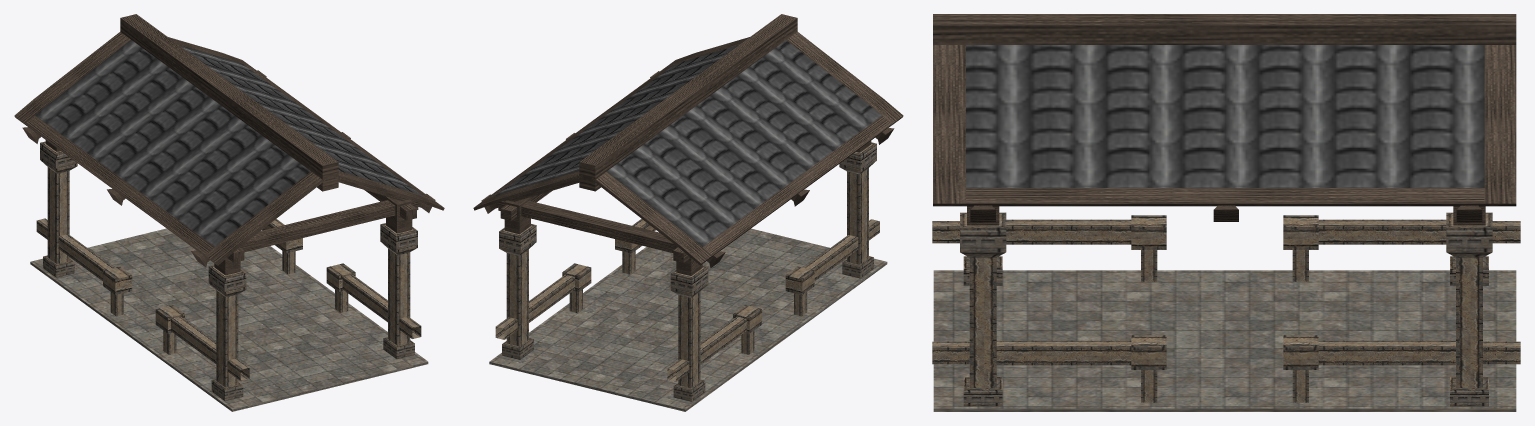
File: corredorjp-ENTc.fbx
3 views of the same model, side by side, from view 1: azimuth 30°, elevation 25°; view 2: azimuth 150°, elevation 25°; view 3: azimuth 270°, elevation 25° (orthographic). The views are drawn at different scales.
Visible parts, largest first — view 1: Cube; view 2: Cube; view 3: Cube.
Boxes of the visible parts, bbox=[...] form: Cube: bbox=[14, 14, 444, 411]; Cube: bbox=[473, 14, 903, 411]; Cube: bbox=[932, 14, 1520, 411].
Bounding box in the file's own units: 114 × 104 × 171.
